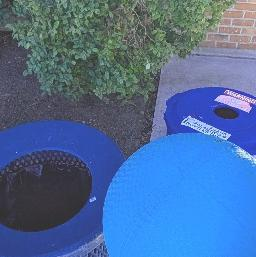algae: (95, 131, 256, 257)
